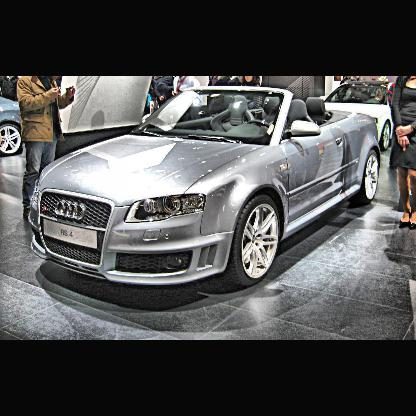Audi RS 4 Convertible 2008: (29, 86, 379, 290)
